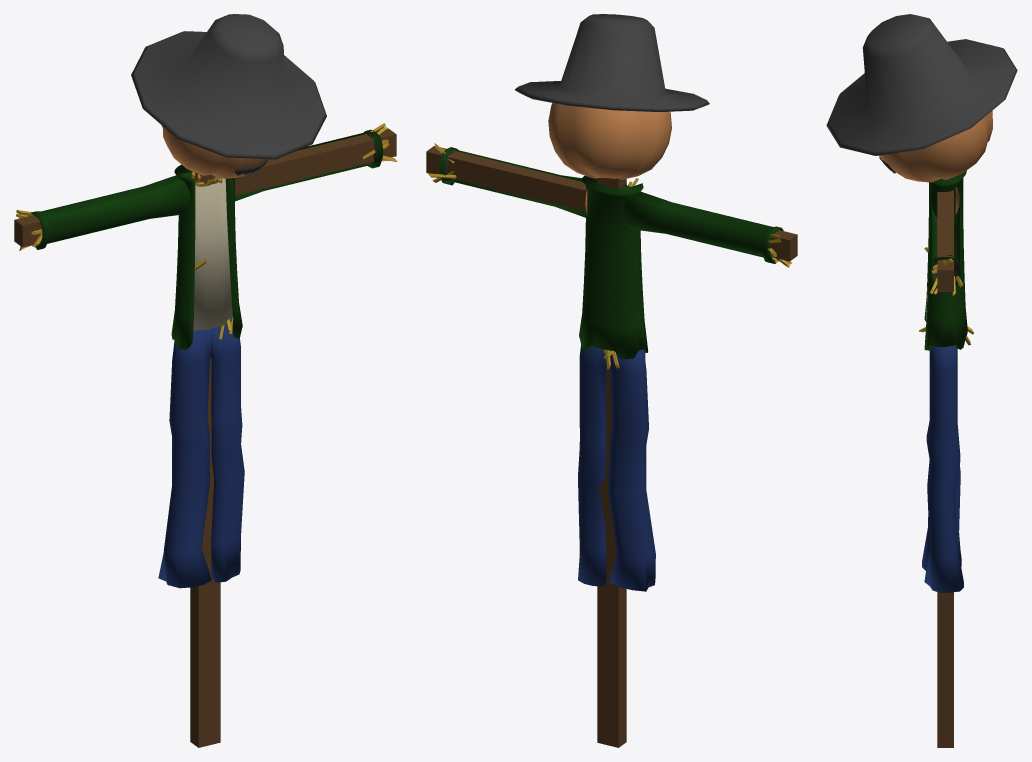
The model's file is Scarecrow.glb.
3 views of the same model, side by side, from view 1: azimuth 30°, elevation 25°; view 2: azimuth 150°, elevation 25°; view 3: azimuth 270°, elevation 25° (orthographic). The views are drawn at different scales.
Parts seen in each view (by area): view 1: Scarecrow; view 2: Scarecrow; view 3: Scarecrow.
Boxes of the visible parts, x1,y1,x2,y2 form: Scarecrow: (14, 14, 397, 747); Scarecrow: (426, 14, 797, 747); Scarecrow: (826, 14, 1017, 747).
Size of the model in its own units: 1.43 by 2.67 by 0.6356.
